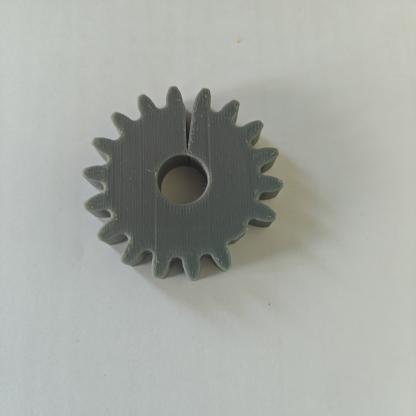defect: (162, 87, 213, 164), (222, 220, 263, 260)
gear: (76, 74, 293, 305)
